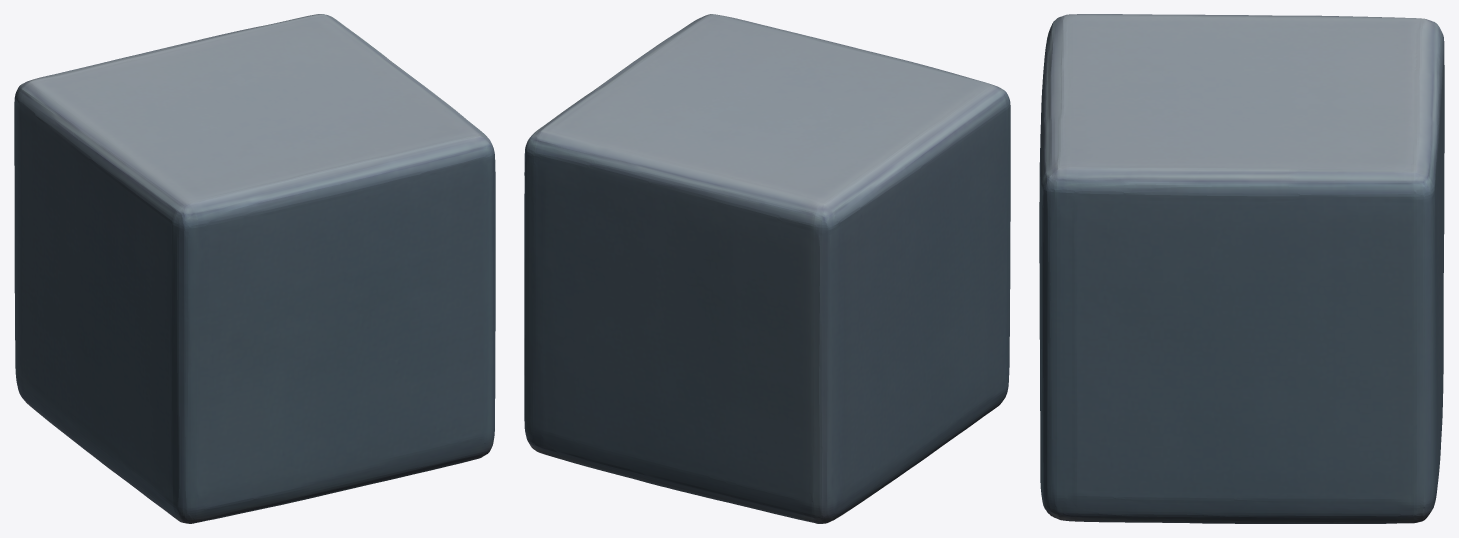
The model's file is obj2_sam3d.glb.
3 views of the same model, side by side, from view 1: azimuth 30°, elevation 25°; view 2: azimuth 150°, elevation 25°; view 3: azimuth 270°, elevation 25° (orthographic). The views are drawn at different scales.
Visible parts, largest first — view 1: world; view 2: world; view 3: world.
Part boxes in pixels (x1,y1,x2,y2): world: (14, 14, 495, 523); world: (524, 14, 1010, 523); world: (1039, 14, 1444, 523).
Bounding box in the file's own units: 0.4901 × 0.4693 × 0.4865.
